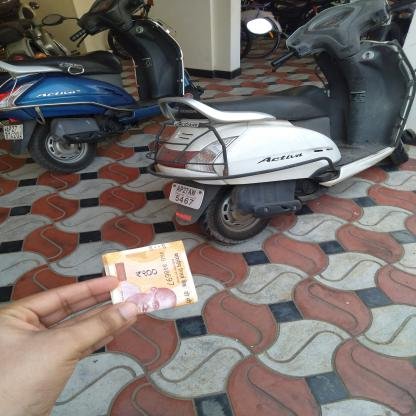New200Front: (105, 243, 195, 318)
